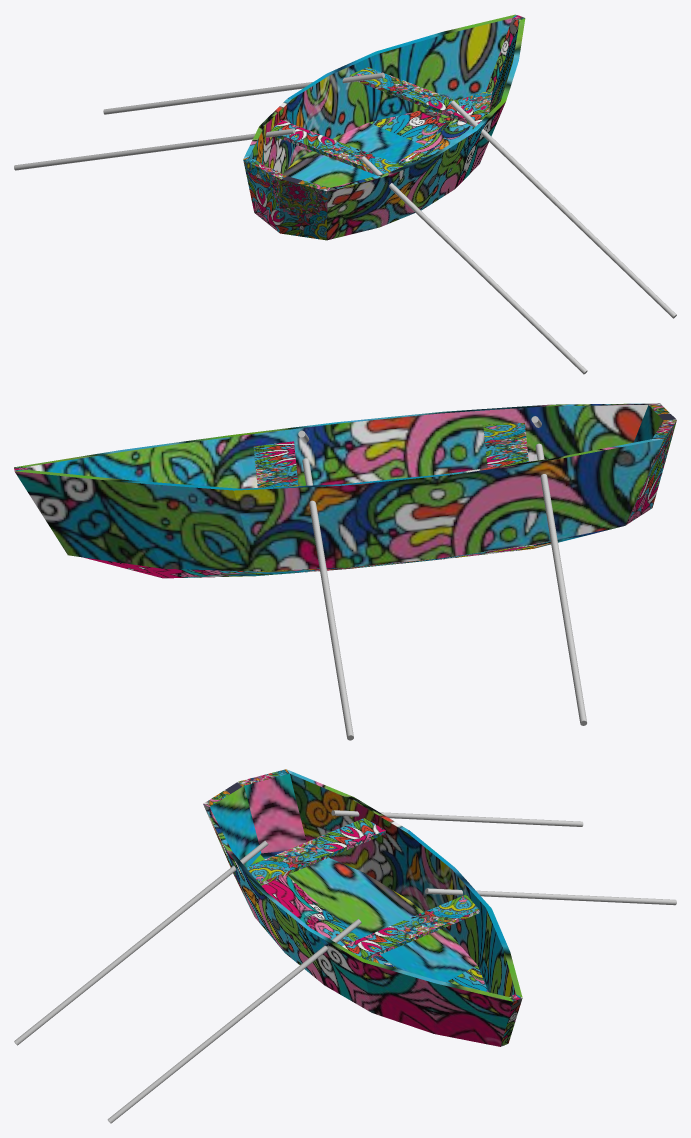
The model's file is boats_2.obj.
The picture shows the model from 3 angles, top to bottom: view 1: azimuth 30°, elevation 25°; view 2: azimuth 150°, elevation 25°; view 3: azimuth 270°, elevation 25°; orthographic projection. The views are drawn at different scales.
Visible parts, largest first — view 1: Cube.140_Cube.141, Cube.141_Cube.142, Cylinder.033, Cylinder.035, Cylinder.034, Cylinder.032; view 2: Cube.140_Cube.141, Cube.141_Cube.142, Cylinder.034, Cylinder.032; view 3: Cube.140_Cube.141, Cube.141_Cube.142, Cylinder.035, Cylinder.033, Cylinder.032, Cylinder.034.
Boxes of the visible parts, box(x1,y1,x2,y2) form: Cube.140_Cube.141: box(243, 14, 525, 240); Cube.141_Cube.142: box(270, 67, 488, 174); Cylinder.033: box(450, 100, 676, 318); Cylinder.035: box(360, 156, 587, 374); Cylinder.034: box(14, 128, 295, 170); Cylinder.032: box(103, 72, 384, 114); Cube.140_Cube.141: box(14, 403, 676, 578); Cube.141_Cube.142: box(253, 422, 528, 487); Cylinder.034: box(535, 443, 586, 725); Cylinder.032: box(302, 458, 353, 740); Cube.140_Cube.141: box(203, 769, 522, 1046); Cube.141_Cube.142: box(246, 818, 479, 959); Cylinder.035: box(14, 840, 268, 1045); Cylinder.033: box(107, 919, 361, 1123); Cylinder.032: box(425, 888, 676, 905); Cylinder.034: box(331, 810, 583, 826).
Size of the model in its own units: 4.29 by 1.54 by 5.06.
Materials: 4 (3 with a texture image).
